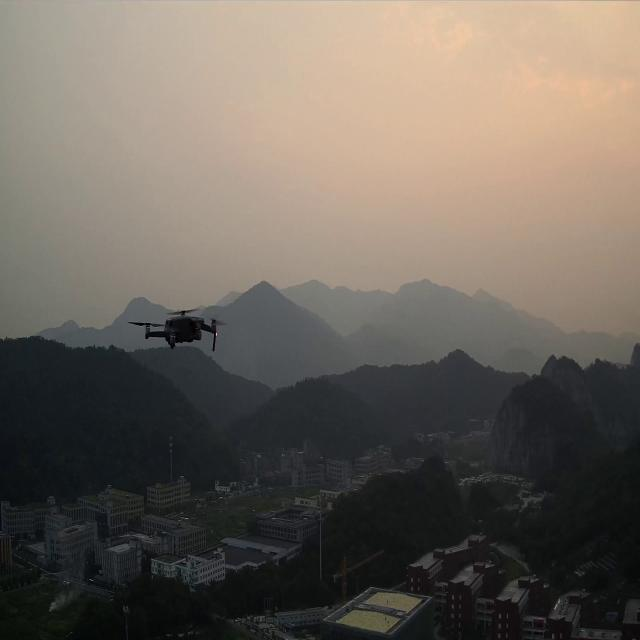UAV: (126, 305, 233, 354)
